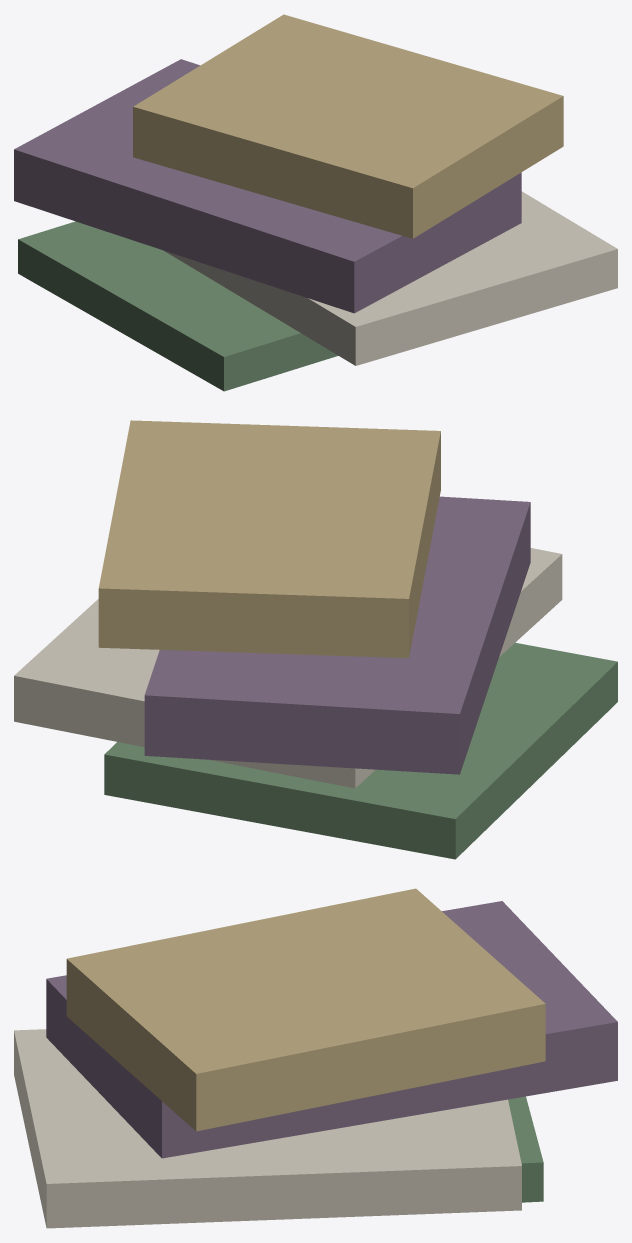
Rendered from mov_736e156ab8.gltf.
The picture shows the model from 3 angles, top to bottom: view 1: azimuth 30°, elevation 25°; view 2: azimuth 150°, elevation 25°; view 3: azimuth 270°, elevation 25°; orthographic projection. The views are drawn at different scales.
Parts seen in each view (by area): view 1: mov_736e156ab8; view 2: mov_736e156ab8; view 3: mov_736e156ab8.
Boxes of the visible parts, x1,y1,x2,y2 form: mov_736e156ab8: (14,14,617,391); mov_736e156ab8: (14,420,617,859); mov_736e156ab8: (14,888,617,1228).
Bounding box in the file's own units: 0.3188 × 0.1289 × 0.3528.
